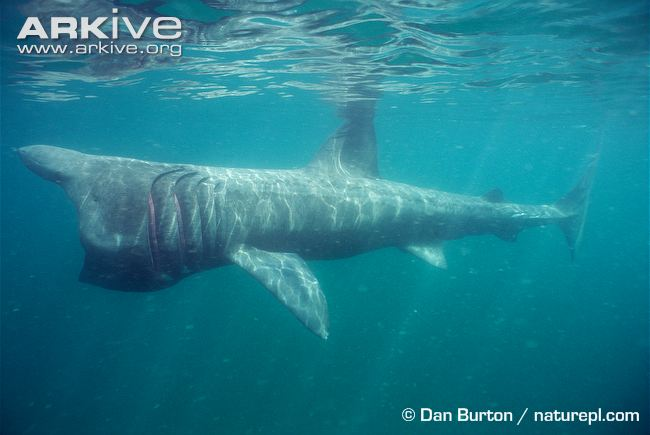shark: (13, 98, 604, 343)
